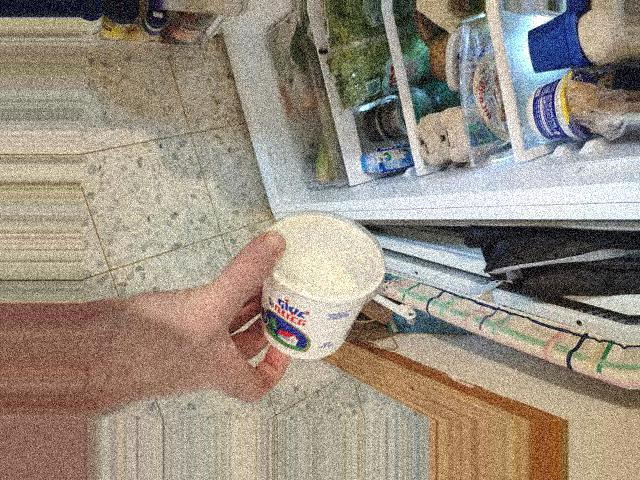cotage: (263, 236, 374, 353)
